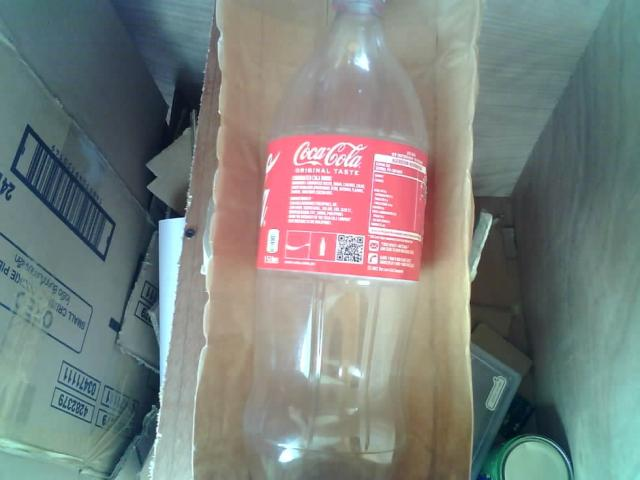large_bottle: (237, 0, 448, 480)
